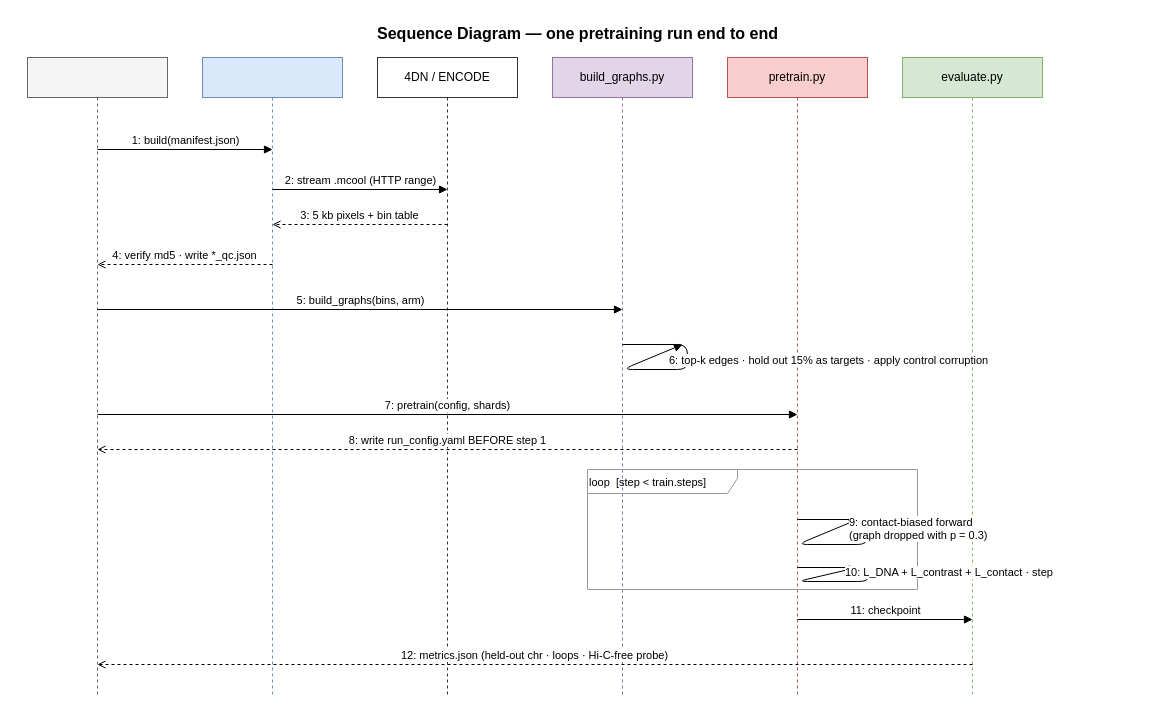
Image size: 1154x715. Some labels were removed from this diagram. The shapes that lost their labels are listed below. From the top down, each one's box as (x1, y1, x2, y2) in pixels, then its label:
(26, 56, 168, 698): Researcher
(202, 56, 342, 698): build_data.py
